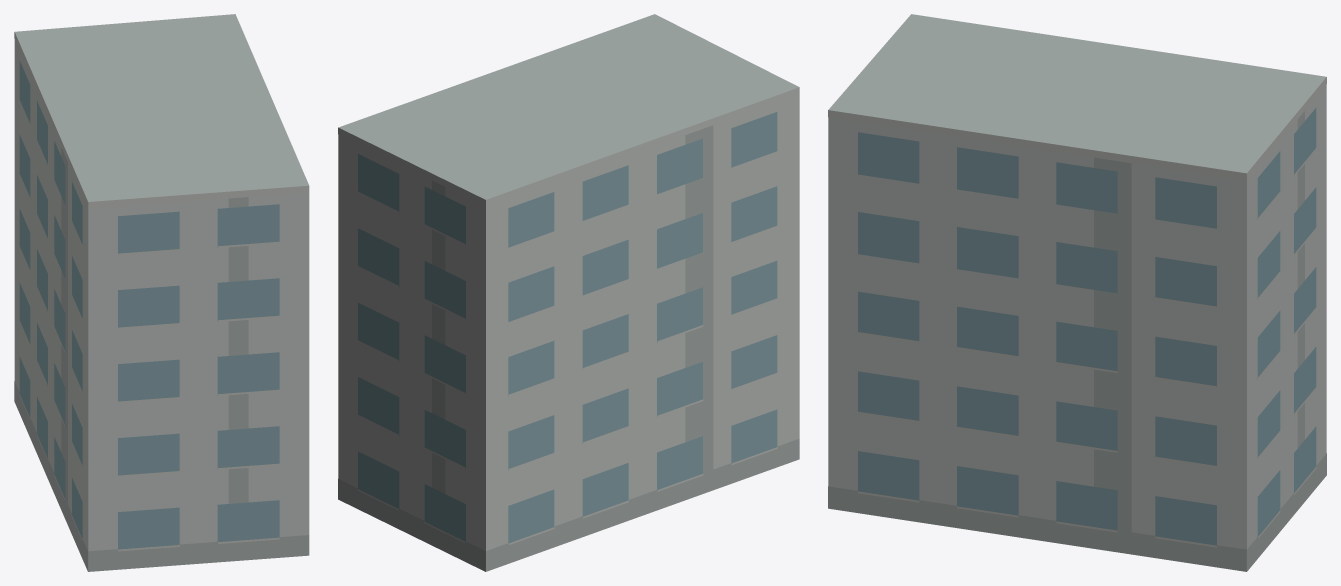
The model's file is survey-upis-32893544.glb.
The picture shows the model from 3 angles, left to right: view 1: azimuth 30°, elevation 25°; view 2: azimuth 150°, elevation 25°; view 3: azimuth 270°, elevation 25°; orthographic projection. The views are drawn at different scales.
Visible parts, largest first — view 1: survey-upis-32893544.tmp; view 2: survey-upis-32893544.tmp; view 3: survey-upis-32893544.tmp.
Boxes of the visible parts, bbox=[...] form: survey-upis-32893544.tmp: bbox=[14, 14, 309, 571]; survey-upis-32893544.tmp: bbox=[338, 14, 799, 571]; survey-upis-32893544.tmp: bbox=[828, 14, 1326, 571].
Bounding box in the file's own units: 11.33 × 13.2 × 14.98.
